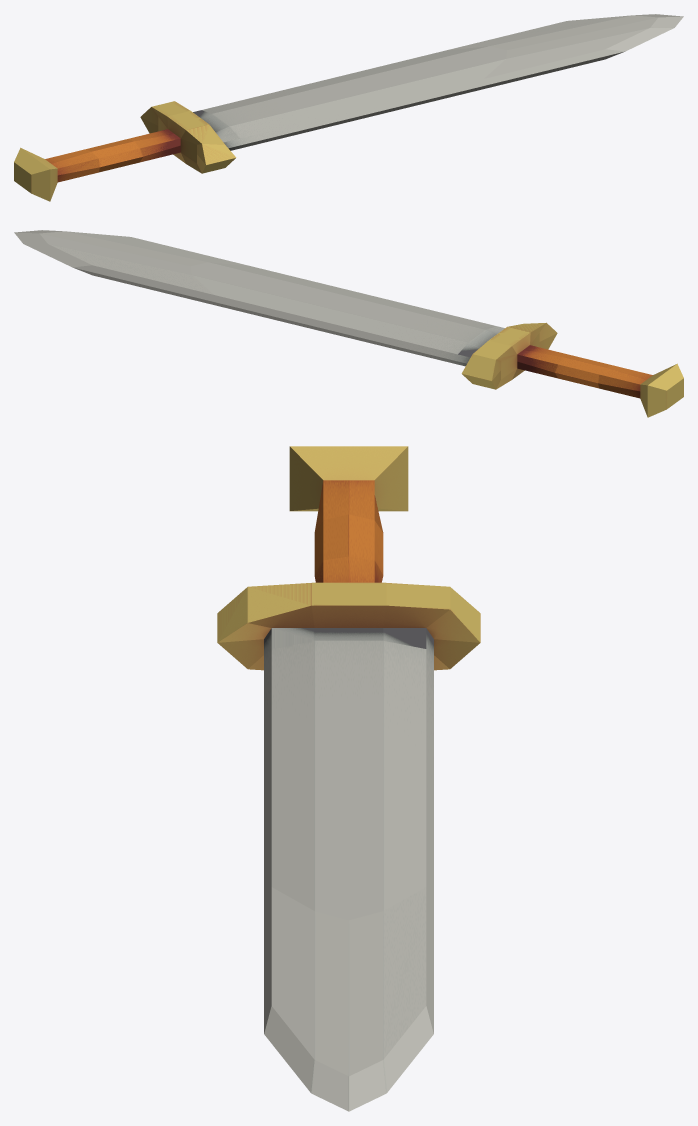
Rendered from SWORD.glb.
The picture shows the model from 3 angles, top to bottom: view 1: azimuth 30°, elevation 25°; view 2: azimuth 150°, elevation 25°; view 3: azimuth 270°, elevation 25°; orthographic projection. The views are drawn at different scales.
Visible parts, largest first — view 1: Cube; view 2: Cube; view 3: Cube.
Boxes of the visible parts, x1,y1,x2,y2 form: Cube: [14, 14, 683, 201]; Cube: [14, 230, 683, 417]; Cube: [217, 446, 480, 1111].
Size of the model in its own units: 7.53 by 0.4155 by 1.3.
Materials: 1 (1 with a texture image).
